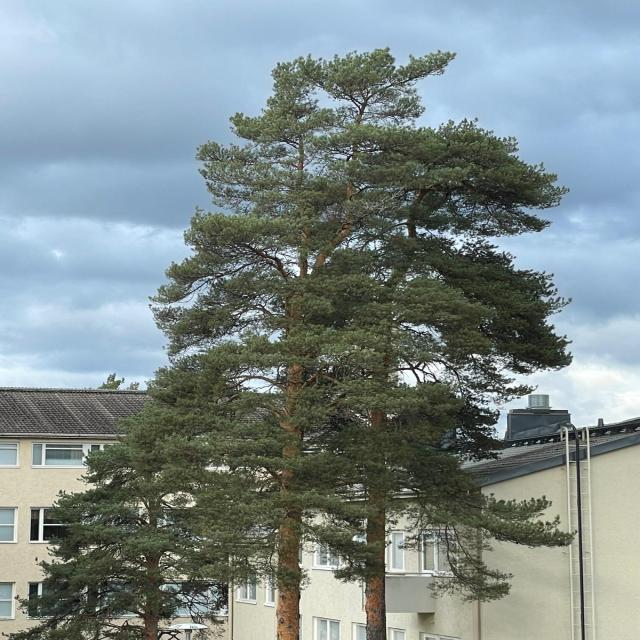pine: (189, 35, 560, 640)
